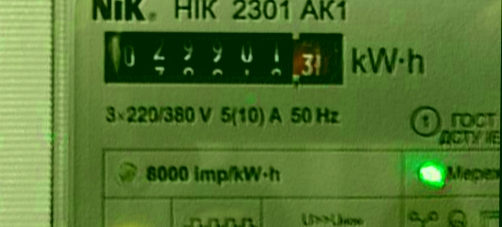0: (119, 41, 138, 68), (238, 36, 255, 65)
1: (269, 36, 283, 64)
2: (149, 35, 168, 62)
3: (298, 51, 315, 77)
9: (179, 36, 196, 63), (210, 37, 224, 64)
screen: (94, 21, 355, 95)
